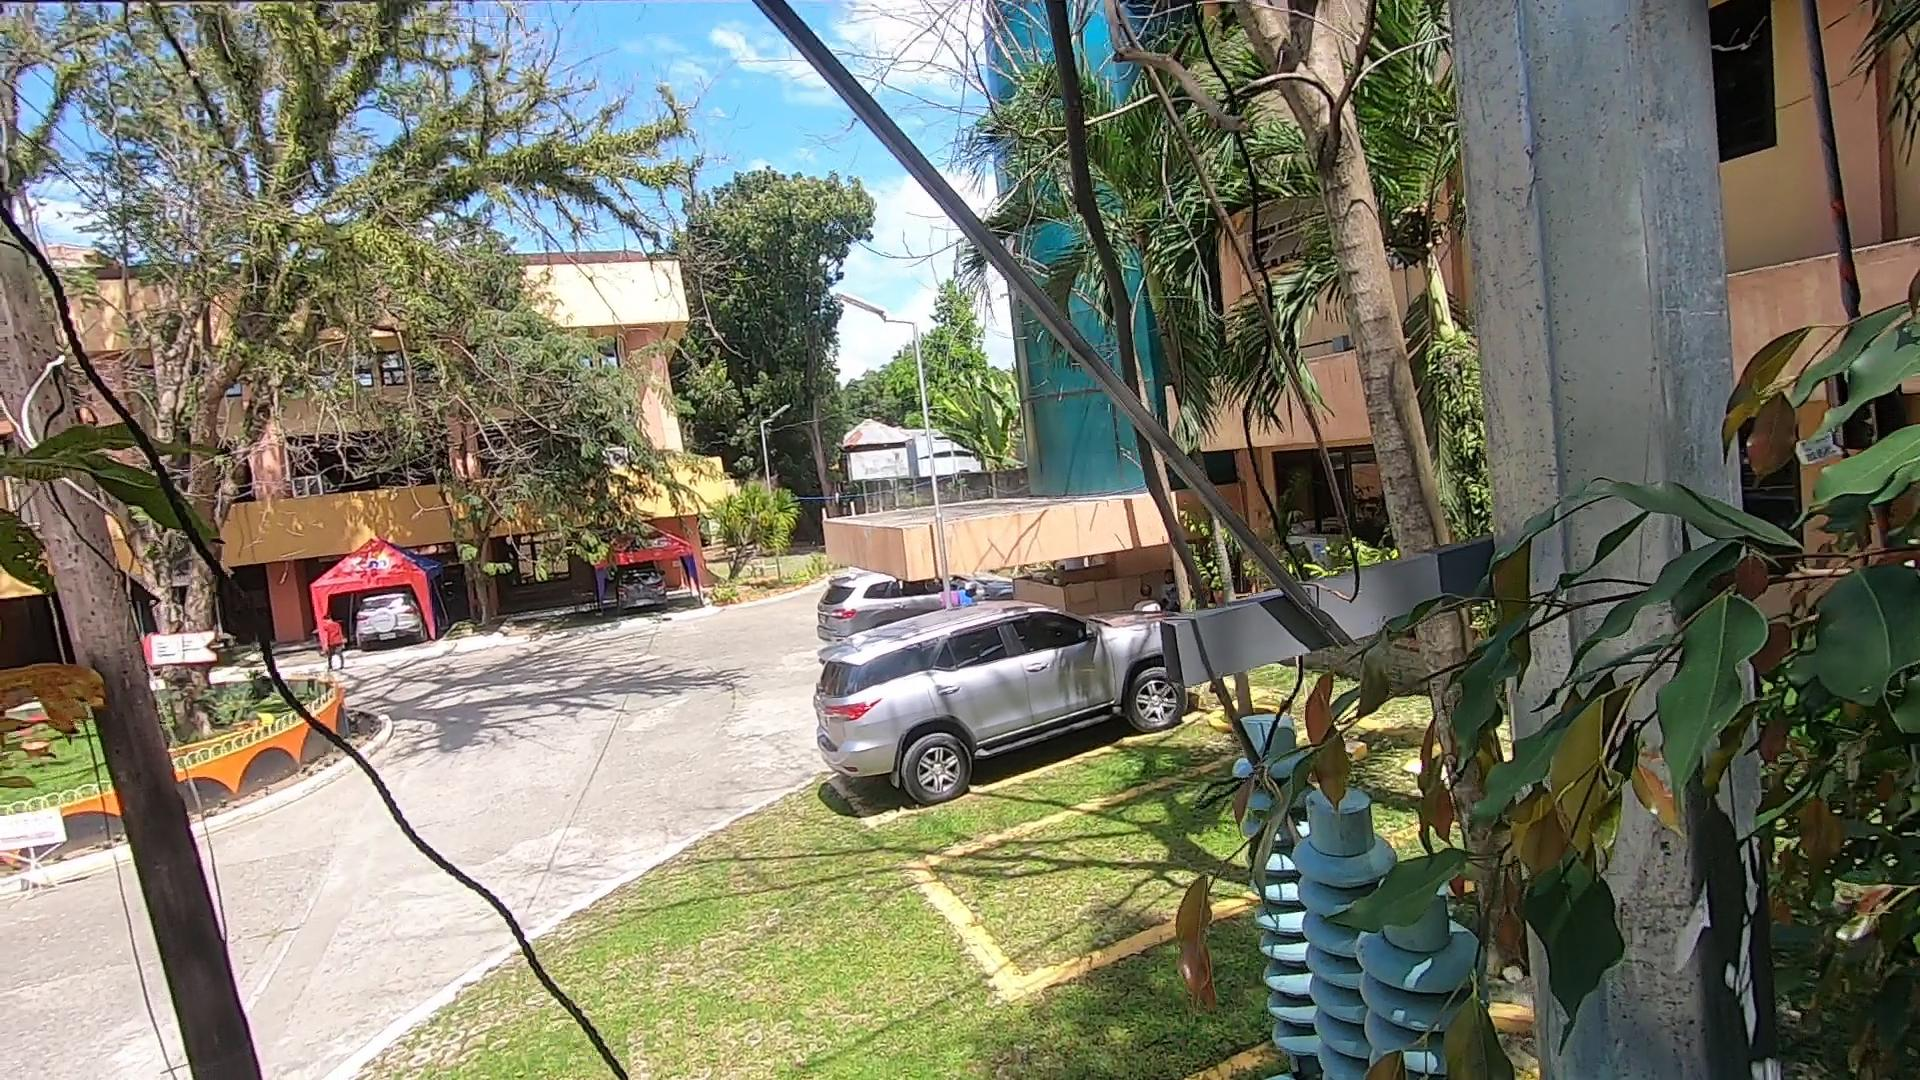branch with leaves: (1116, 584, 1586, 1080)
tree branch: (1004, 5, 1263, 630)
